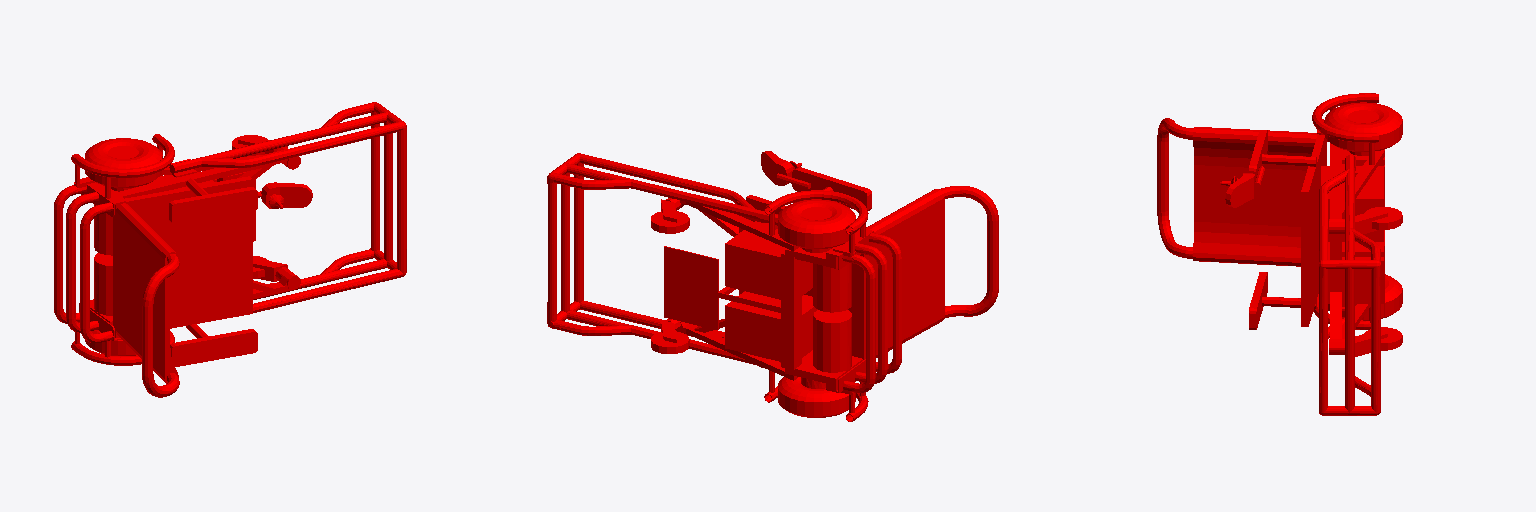
The model's file is Red_Chair.obj.
The picture shows the model from 3 angles: view 1: azimuth 30°, elevation 25°; view 2: azimuth 150°, elevation 25°; view 3: azimuth 270°, elevation 25°; orthographic projection.
Visible parts, largest first — view 1: Red Chair; view 2: Red Chair; view 3: Red Chair.
Part boxes in pixels (x1,y1,x2,y2): Red Chair: (54,102,406,397); Red Chair: (547,151,998,421); Red Chair: (1157,93,1402,415).
Bounding box in the file's own units: 1.29 × 0.7036 × 0.7969.